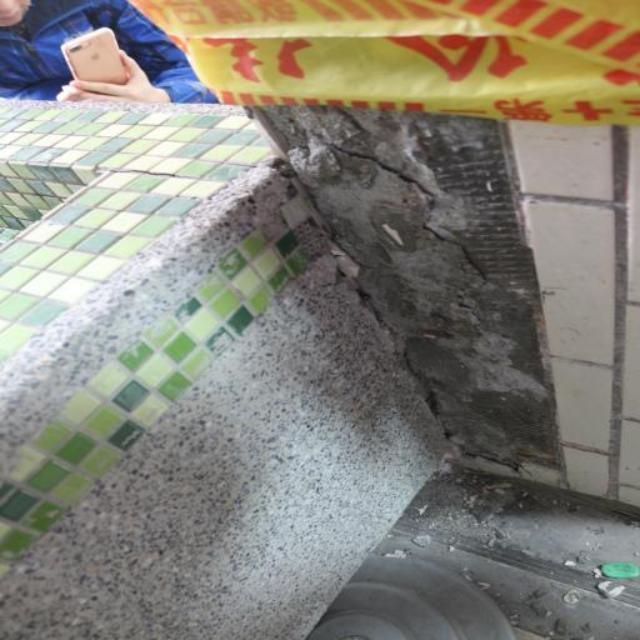D10: (258, 106, 565, 472)
